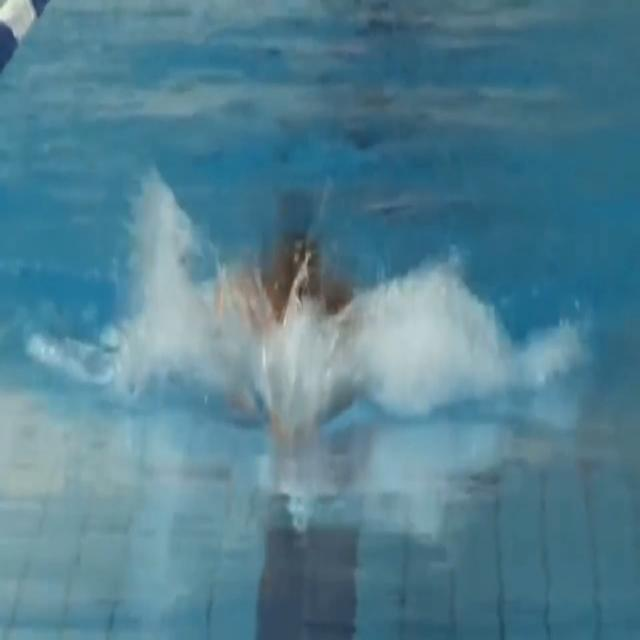Swimming: (209, 191, 373, 441)
